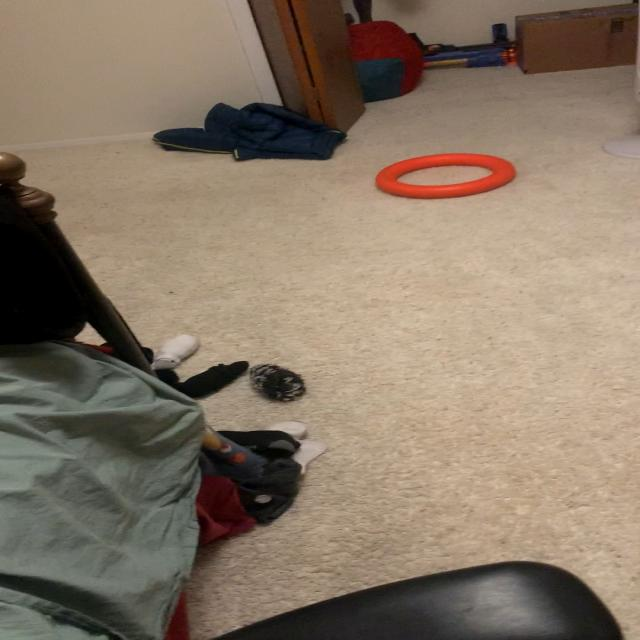notes: (376, 152, 515, 196)
